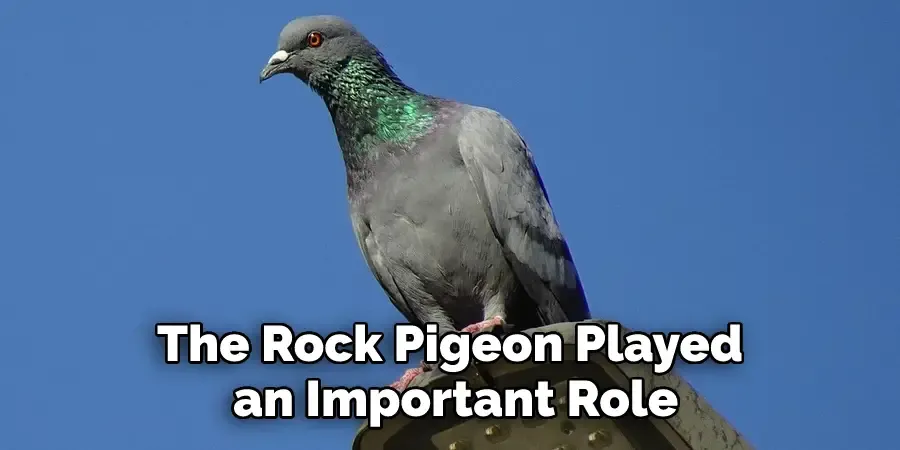Flying Rat: (244, 24, 658, 321)
